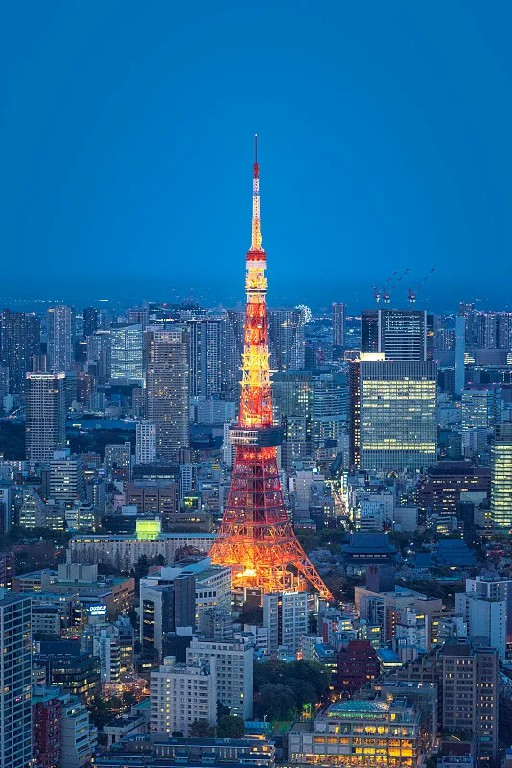Tokyo: (200, 132, 333, 603)
